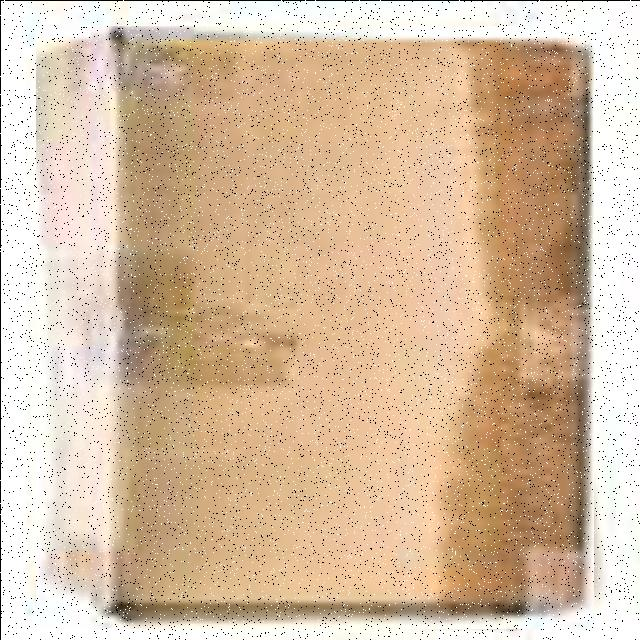defect: (35, 25, 593, 628)
